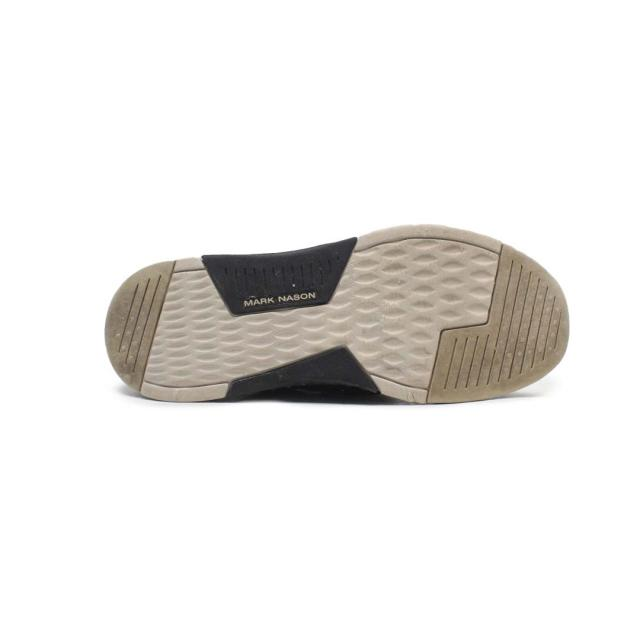outersole: (106, 222, 574, 407)
